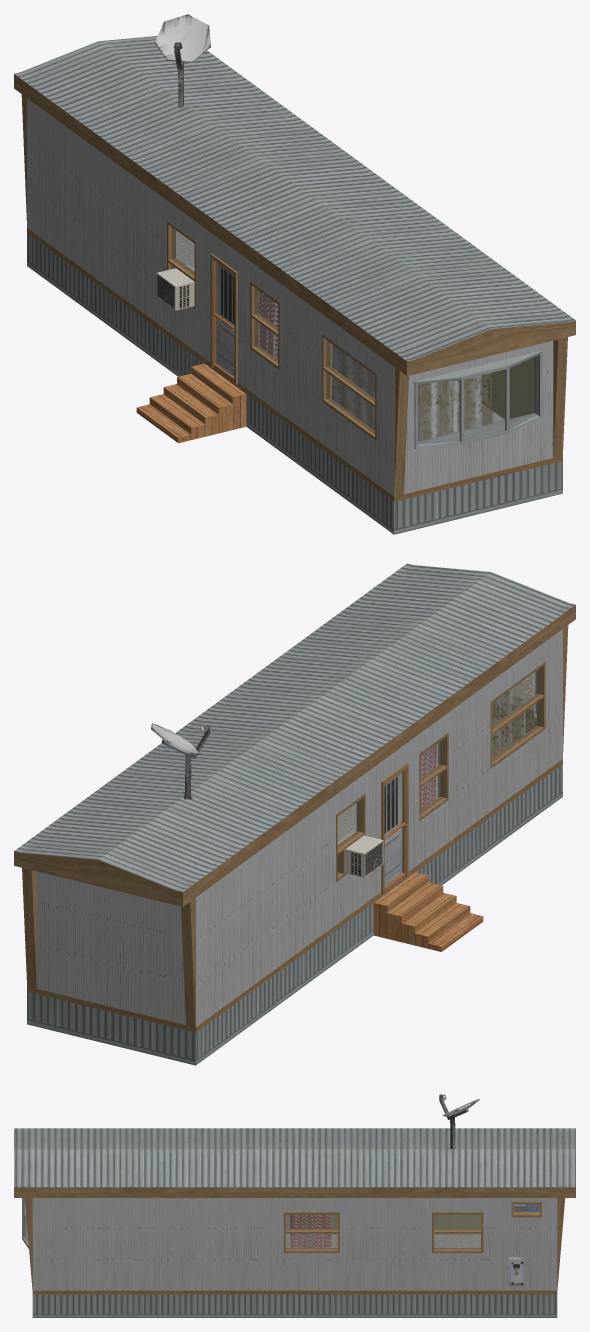
Rendered from trailer_05.glb.
3 views of the same model, one above another, from view 1: azimuth 30°, elevation 25°; view 2: azimuth 150°, elevation 25°; view 3: azimuth 270°, elevation 25° (orthographic). The views are drawn at different scales.
Visible parts, largest first — view 1: Home_04, Mesh_31, ladders, Frame_Windows_31, Curtain_01.010, Mesh_30, Door_Mesh.004, Antenna.001, Curtain_01.009, Frame_Windows_30, Door.004, air-conditioning.002 (+6 smaller); view 2: Home_04, ladders, Mesh_30, Door_Mesh.004, Curtain_01.009, Door.004, Frame_Windows_30, air-conditioning.002, Mesh_29, Frame_Windows_29, Antenna.001, Frame_Windows_28 (+3 smaller); view 3: Home_04, Mesh_32, Mesh_33, Curtain.010, Frame_Windows_32, Frame_Windows_33, Antenna.001, Fuse_box.006, Frame_Windows_34.
Boxes of the visible parts, x1,y1,x2,y2 form: Home_04: (14, 36, 575, 534); Mesh_31: (418, 356, 537, 444); ladders: (136, 363, 246, 443); Frame_Windows_31: (414, 350, 542, 449); Curtain_01.010: (418, 373, 492, 441); Mesh_30: (326, 340, 374, 433); Door_Mesh.004: (212, 259, 234, 380); Antenna.001: (154, 14, 210, 107); Curtain_01.009: (332, 344, 374, 430); Frame_Windows_30: (322, 334, 376, 440); Door.004: (217, 263, 234, 375); air-conditioning.002: (156, 265, 194, 310); Home_04: (14, 563, 575, 1065); ladders: (373, 872, 483, 951); Mesh_30: (492, 668, 540, 761); Door_Mesh.004: (384, 768, 407, 890); Curtain_01.009: (492, 674, 533, 757); Door.004: (384, 773, 402, 885); Frame_Windows_30: (490, 661, 545, 768); air-conditioning.002: (337, 832, 383, 877); Mesh_29: (421, 739, 443, 813); Frame_Windows_29: (419, 732, 448, 820); Antenna.001: (151, 723, 210, 799); Frame_Windows_28: (336, 793, 365, 882); Home_04: (14, 1128, 575, 1317); Mesh_32: (286, 1215, 337, 1248); Mesh_33: (434, 1215, 480, 1248); Curtain.010: (289, 1214, 331, 1247); Frame_Windows_32: (283, 1212, 339, 1252); Frame_Windows_33: (432, 1212, 483, 1252); Antenna.001: (439, 1094, 479, 1149); Fuse_box.006: (508, 1257, 524, 1286); Frame_Windows_34: (511, 1201, 541, 1217).
Size of the model in its own units: 5.51 by 5.72 by 15.11.
16 materials, 16 textured.
